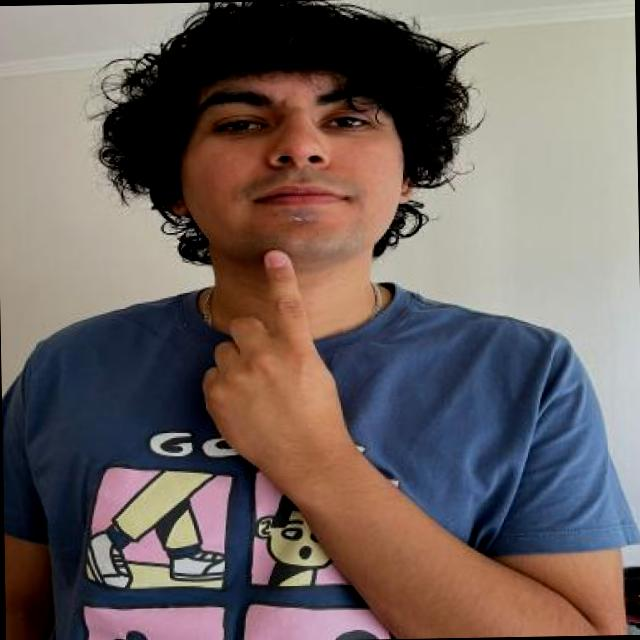T: (182, 243, 346, 477)
